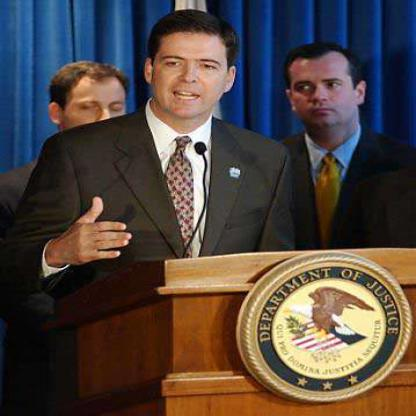face: (152, 19, 230, 121), (60, 67, 133, 150), (290, 47, 360, 131)
